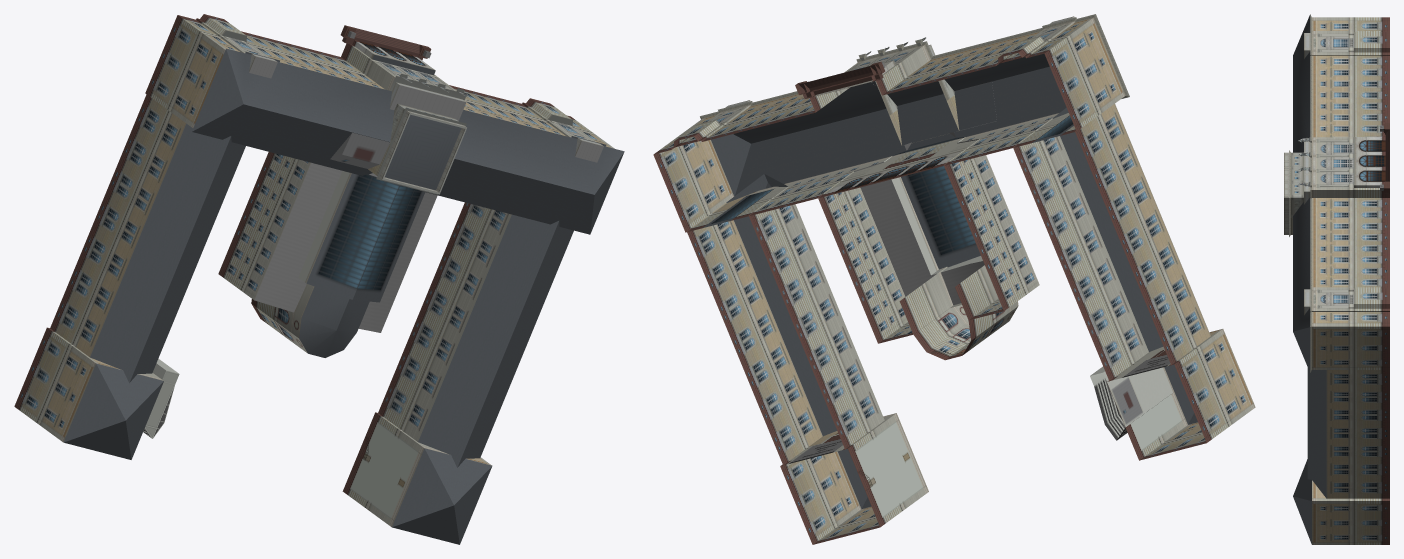
File: DEU_CY0223_KARLSRUHE_MUSEUM_FUR_NATRKND_L.OBJ
3 views of the same model, side by side, from view 1: azimuth 30°, elevation 25°; view 2: azimuth 150°, elevation 25°; view 3: azimuth 270°, elevation 25° (orthographic). The views are drawn at different scales.
Parts seen in each view (by area): view 1: L; view 2: L; view 3: L.
Part boxes in pixels (left/top/right/bottom): L: left=14, top=14, right=624, bottom=544; L: left=653, top=14, right=1255, bottom=544; L: left=1284, top=14, right=1389, bottom=544.
Bounding box in the file's own units: 118 × 112 × 24.42.
1 material, 1 textured.
